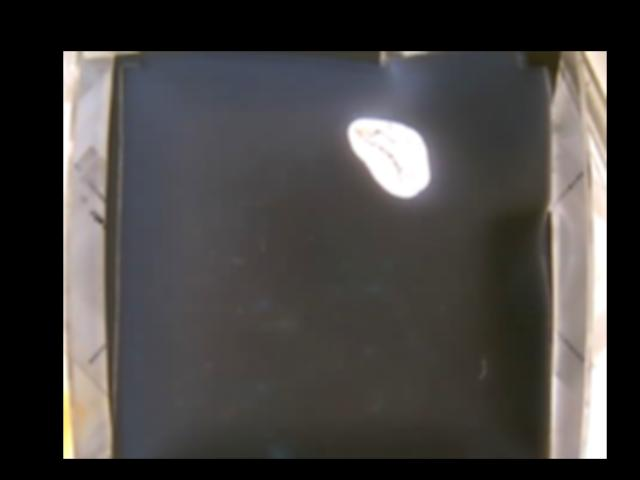Pebble: (347, 116, 432, 200)
